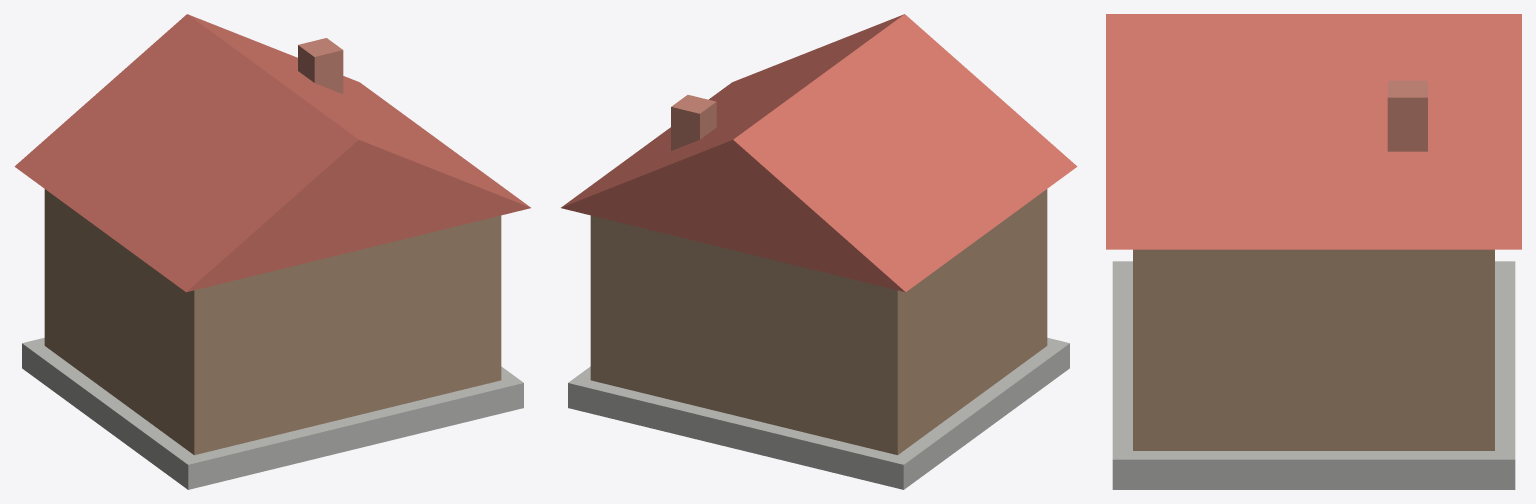
File: cozy_cottage.glb
3 renders of one model, left to right at view 1: azimuth 30°, elevation 25°; view 2: azimuth 150°, elevation 25°; view 3: azimuth 270°, elevation 25°, orthographic. The views are drawn at different scales.
Parts seen in each view (by area): view 1: cozy_cottage; view 2: cozy_cottage; view 3: cozy_cottage.
Part boxes in pixels (x1,y1,x2,y2): cozy_cottage: (14, 14, 530, 489); cozy_cottage: (561, 14, 1077, 489); cozy_cottage: (1106, 14, 1521, 489).
Bounding box in the file's own units: 7.2 × 6.2 × 6.2.
